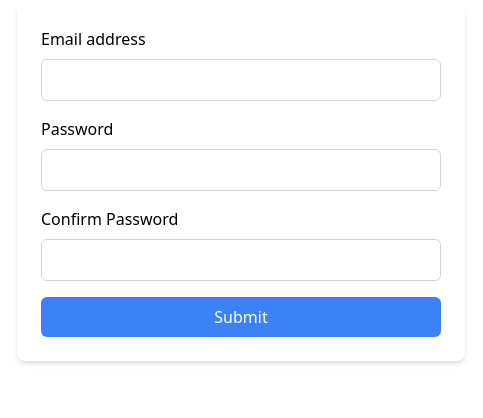
05-form-testing › should show password error if password is less than 5 characters
The image size is (483, 418).
Expected: the text "password must be at least 5 characters" is not shown
Type "test@test.com" into the field labelled "Email address" at (241, 80), box [41,59,441,101]
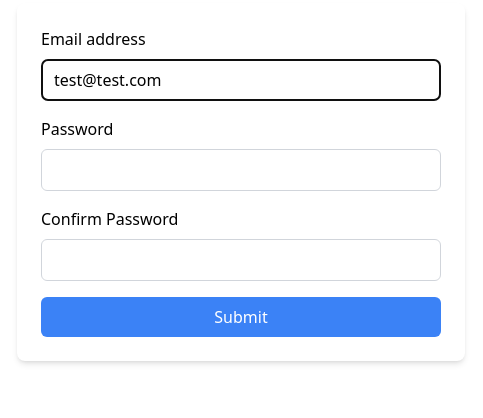
Type "1234" into the password field labelled "Password" at (241, 170), box [41,149,441,191]
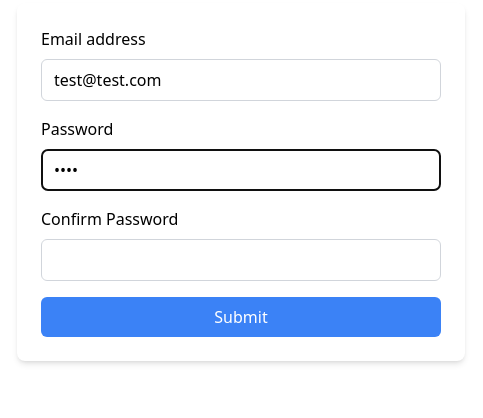
Click the button "Submit" at (241, 317), box [41,297,441,337]
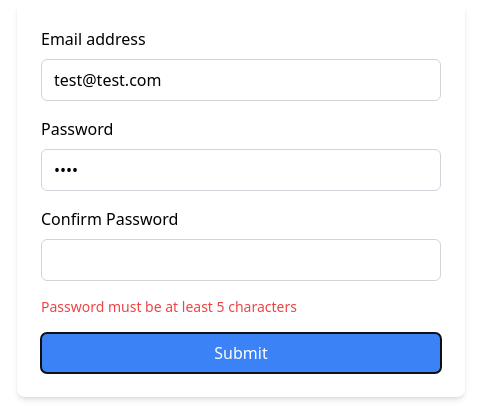
Now the text "Password must be at least 5 characters" is shown, box [41,297,297,316]
